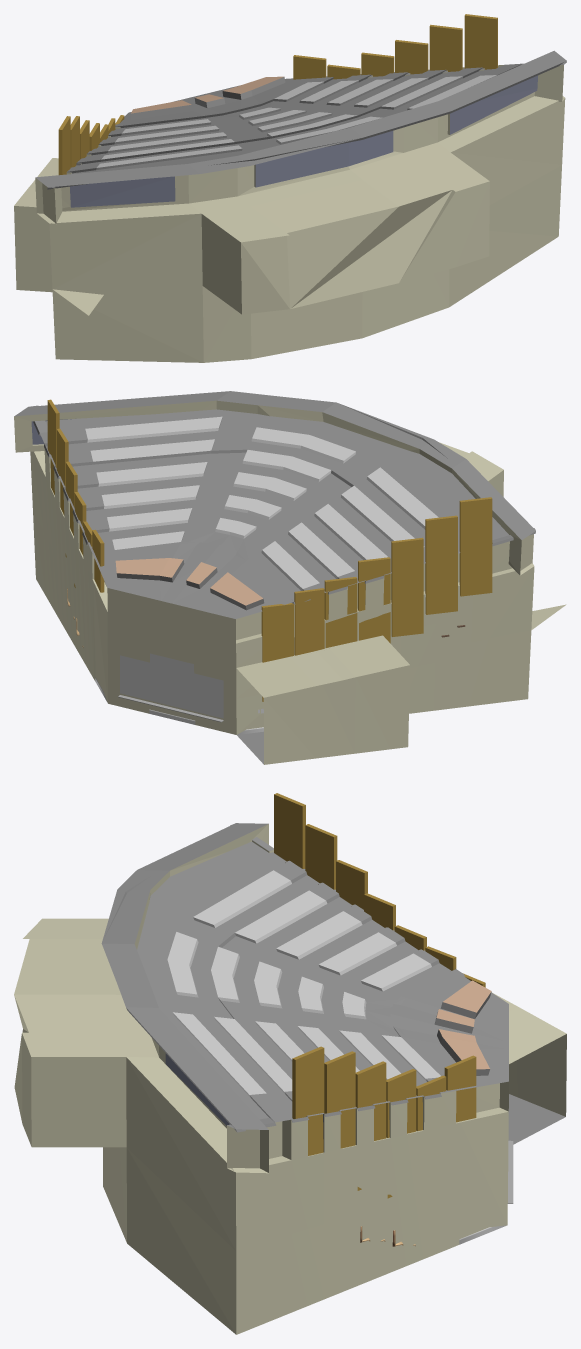
File: lecture_theatre.dae
3 renders of one model, top to bottom at view 1: azimuth 30°, elevation 25°; view 2: azimuth 150°, elevation 25°; view 3: azimuth 270°, elevation 25°, orthographic. The views are drawn at different scales.
Visible parts, largest first — view 1: base, ceiling, Cube_055, Cube_056, Cube_057, Cube_060, Cube_058, Cube_054, Cube_053; view 2: base, ceiling, whiteboard, Cube_054, Cube_052, Cube_053, Cube_062, Cube_063, Cube_051, Cube_050, Cube_055, Cube_056 (+2 smaller); view 3: base, ceiling, Cube_055, Cube_056, Cube_054, Cube_057, Cube_053, Cube_060, Cube_058, Cube_052, Cube_051, Cube_059.
Boxes of the visible parts, left/top/right/bottom form: base: left=14, top=50, right=566, bottom=362; ceiling: left=47, top=61, right=566, bottom=189; Cube_055: left=464, top=14, right=497, bottom=69; Cube_056: left=429, top=24, right=462, bottom=71; Cube_057: left=395, top=40, right=428, bottom=74; Cube_060: left=293, top=55, right=326, bottom=79; Cube_058: left=361, top=52, right=394, bottom=76; Cube_054: left=58, top=116, right=70, bottom=175; Cube_053: left=70, top=116, right=79, bottom=167; base: left=14, top=391, right=566, bottom=764; ceiling: left=33, top=405, right=535, bottom=618; whiteboard: left=118, top=653, right=223, bottom=722; Cube_054: left=459, top=497, right=492, bottom=596; Cube_052: left=391, top=537, right=423, bottom=636; Cube_053: left=425, top=515, right=457, bottom=614; Cube_062: left=294, top=588, right=324, bottom=655; Cube_063: left=261, top=603, right=294, bottom=701; Cube_051: left=358, top=557, right=390, bottom=643; Cube_050: left=324, top=577, right=357, bottom=647; Cube_055: left=47, top=399, right=59, bottom=495; Cube_056: left=56, top=428, right=68, bottom=515; base: left=14, top=823, right=566, bottom=1334; ceiling: left=102, top=841, right=508, bottom=1132; Cube_055: left=292, top=1046, right=324, bottom=1155; Cube_056: left=324, top=1051, right=355, bottom=1148; Cube_054: left=274, top=793, right=305, bottom=868; Cube_057: left=355, top=1061, right=386, bottom=1190; Cube_053: left=305, top=824, right=337, bottom=889; Cube_060: left=444, top=1055, right=476, bottom=1122; Cube_058: left=386, top=1069, right=416, bottom=1198; Cube_052: left=336, top=860, right=367, bottom=909; Cube_051: left=364, top=893, right=395, bottom=930; Cube_059: left=416, top=1075, right=446, bottom=1131.
Bounding box in the file's own units: 20.23 × 15.41 × 7.9.
